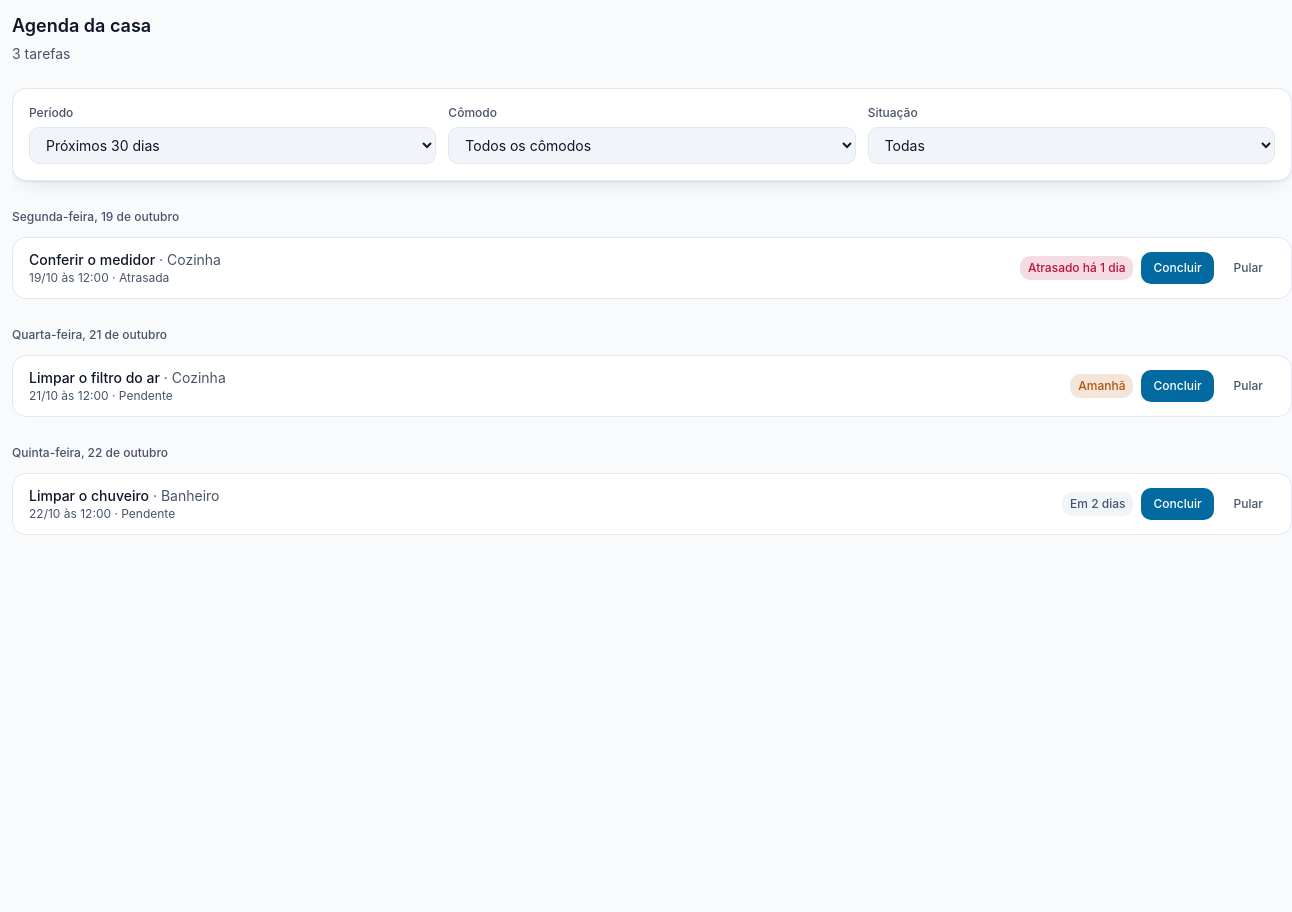
Scenario: TimelinePage › conclui a tarefa e a linha reflete o novo estado, sem sair da tela
Expected: the element with test id "timeline" is shown, [12,205,1291,535]
Click the button "Concluir" next to "Amanhã" at (1178, 386), box [1142,370,1214,402]
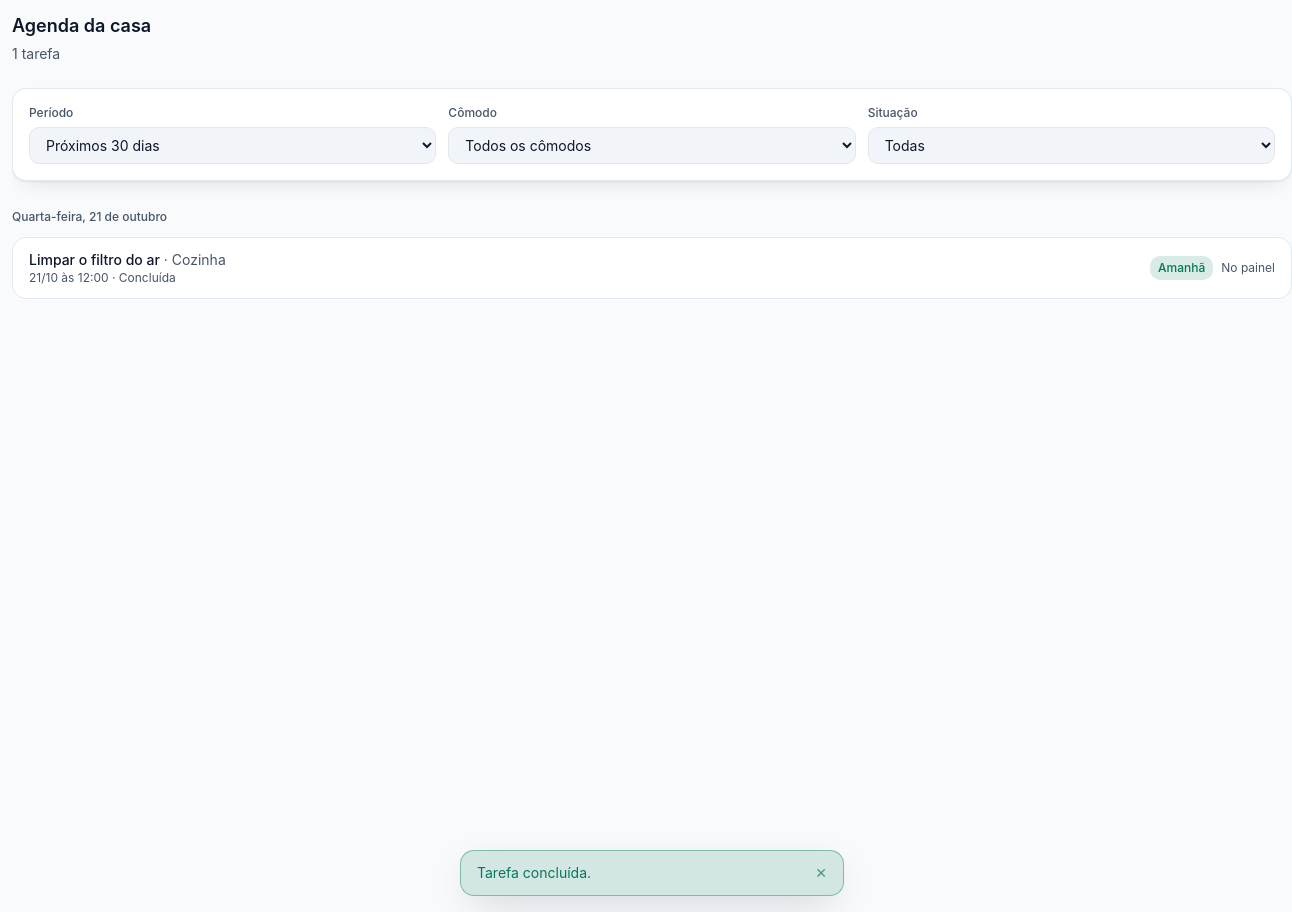
Result: the text "Tarefa concluída." is shown at [477,863,591,883]
Result: the number of elements with test id "occurrence-row" is 1 at [12,237,1291,299]
Result: the button "Concluir" is gone
